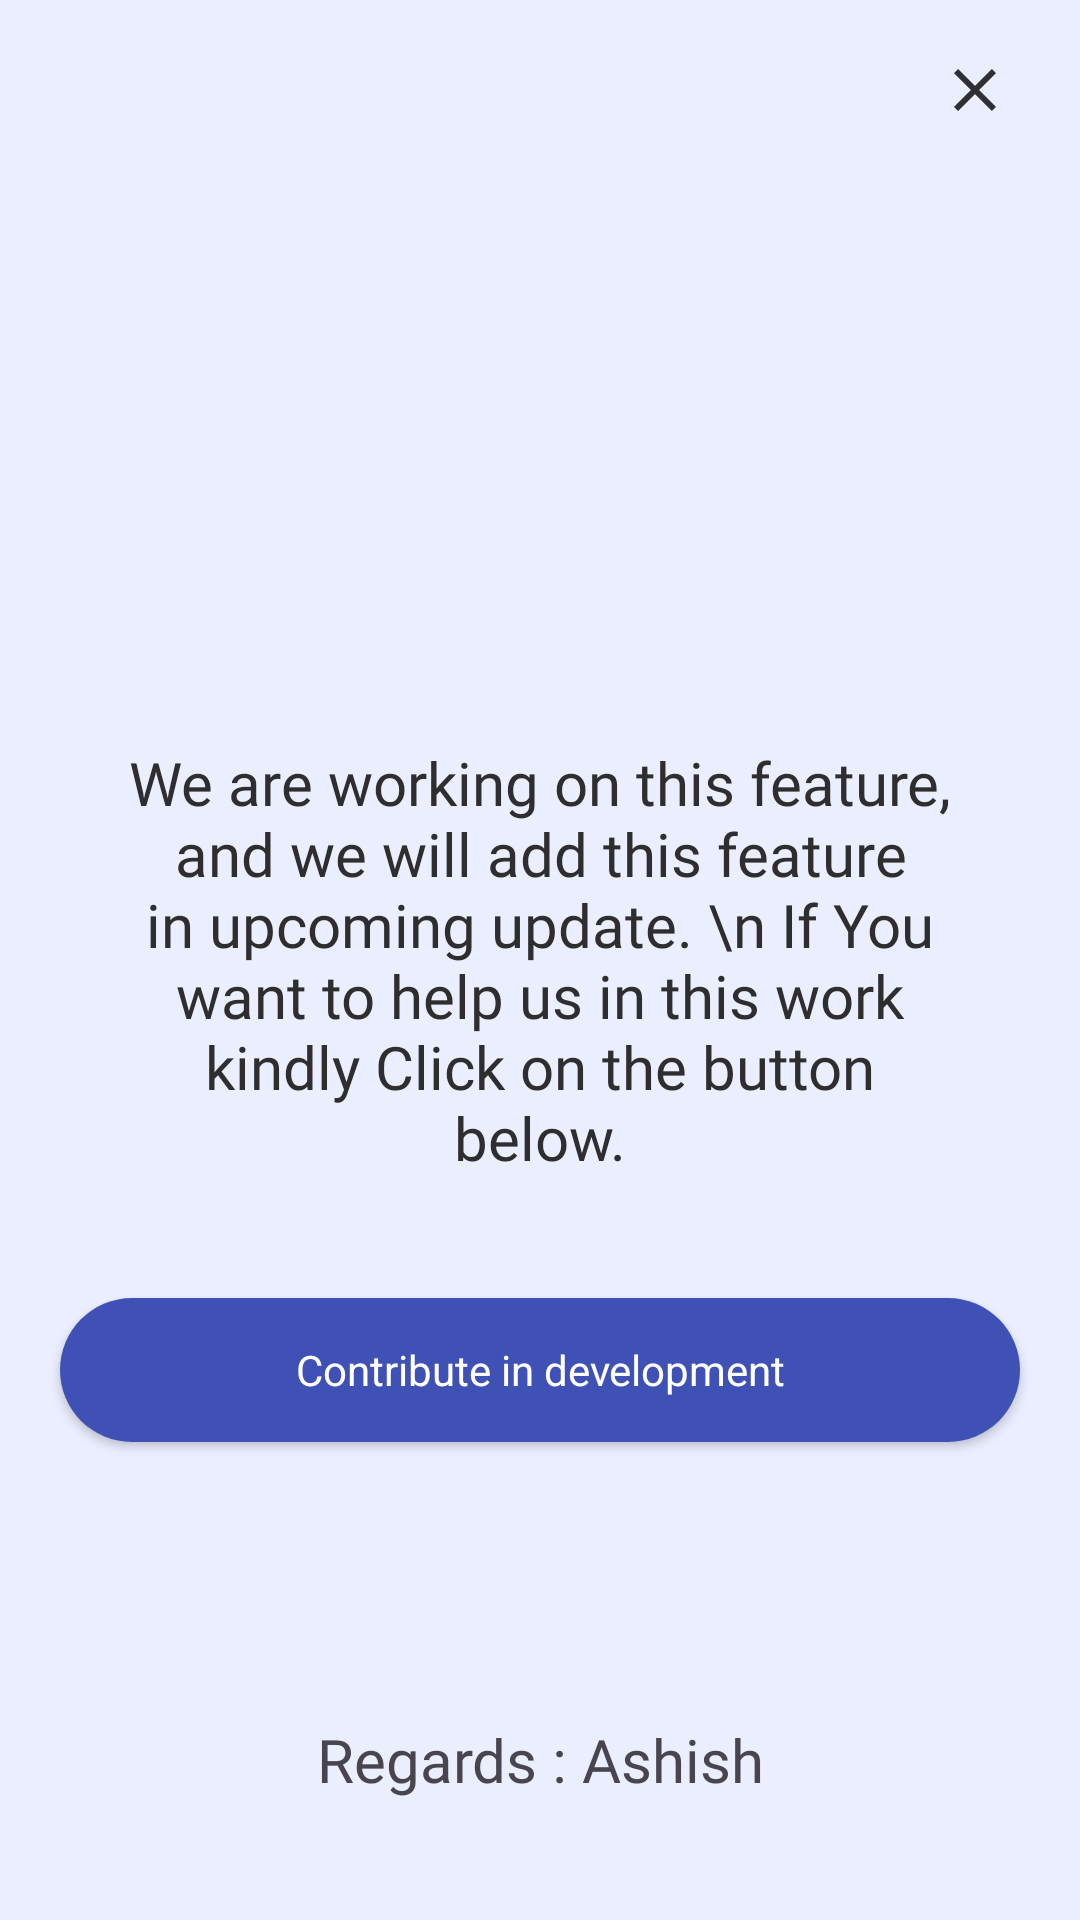

Where to tap for icons on this 1080 × 1920 app screen, as point (x, y):
closs: point (975, 90)
